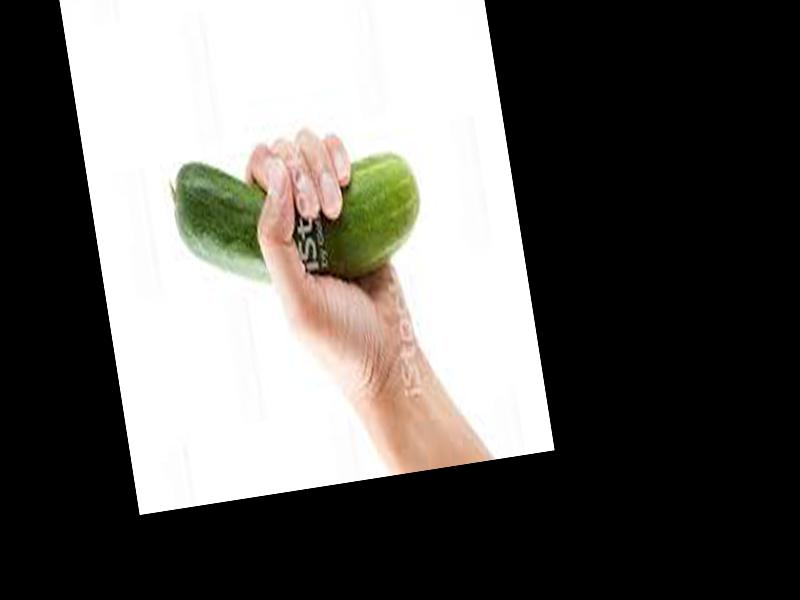Cucumber: (167, 126, 429, 305)
